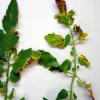Tomato Septoria leaf spot: (12, 44, 42, 78), (53, 0, 75, 24), (43, 30, 67, 48), (78, 54, 92, 71), (59, 58, 71, 75), (78, 31, 89, 42)
